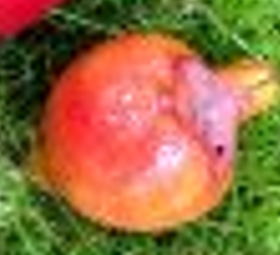pomegranate_B: (33, 30, 280, 234)
